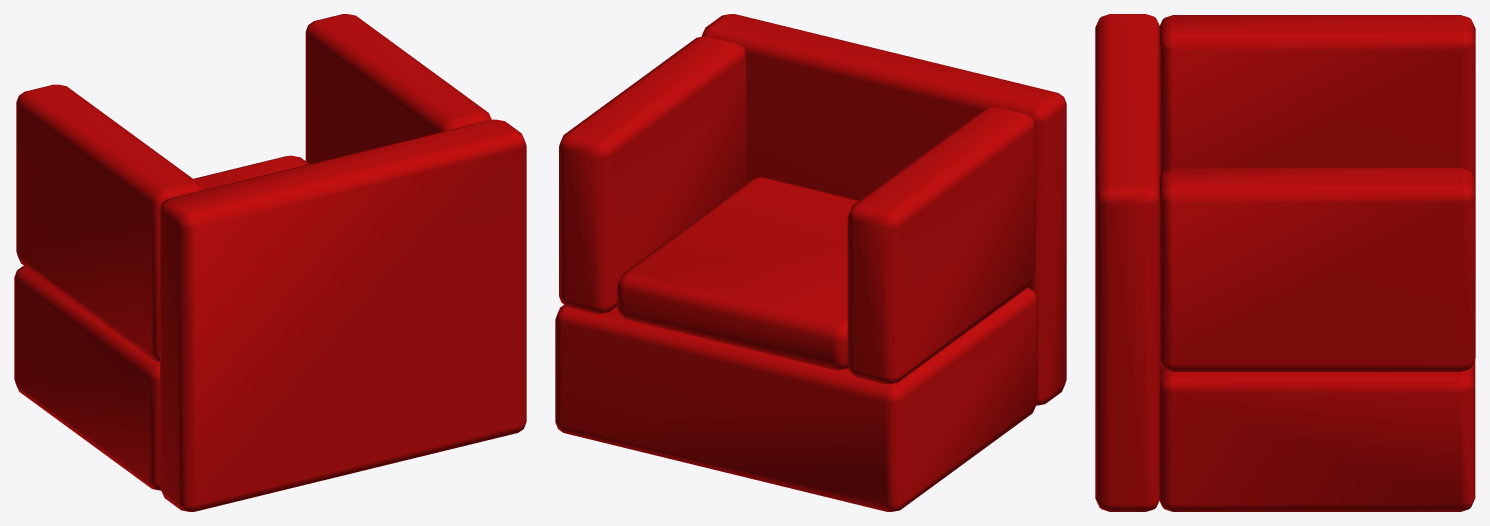
The model's file is sofachair.obj.
The picture shows the model from 3 angles, left to right: view 1: azimuth 30°, elevation 25°; view 2: azimuth 150°, elevation 25°; view 3: azimuth 270°, elevation 25°; orthographic projection. The views are drawn at different scales.
Parts seen in each view (by area): view 1: sofachair; view 2: sofachair; view 3: sofachair.
Part boxes in pixels (x1,y1,x2,y2): sofachair: [14, 14, 526, 511]; sofachair: [555, 14, 1066, 511]; sofachair: [1095, 14, 1475, 511].
Size of the model in its own units: 0.9418 by 0.7803 by 0.8256.
